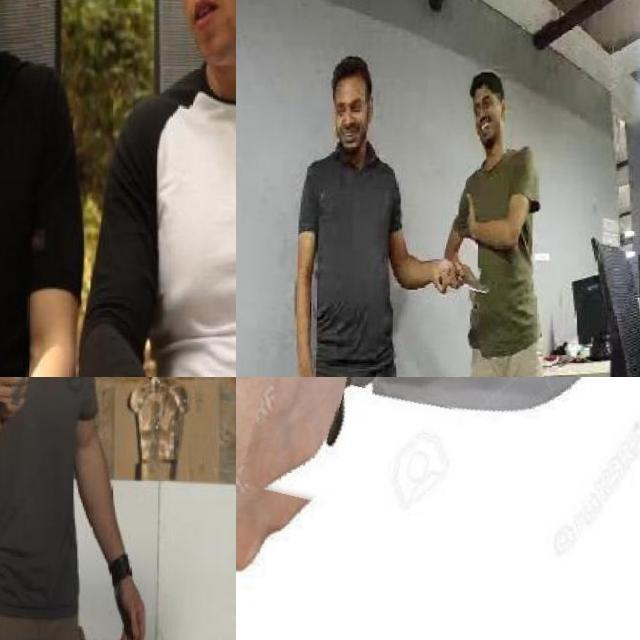-: (251, 377, 620, 546), (0, 0, 37, 119), (0, 377, 40, 436), (448, 264, 500, 303)
